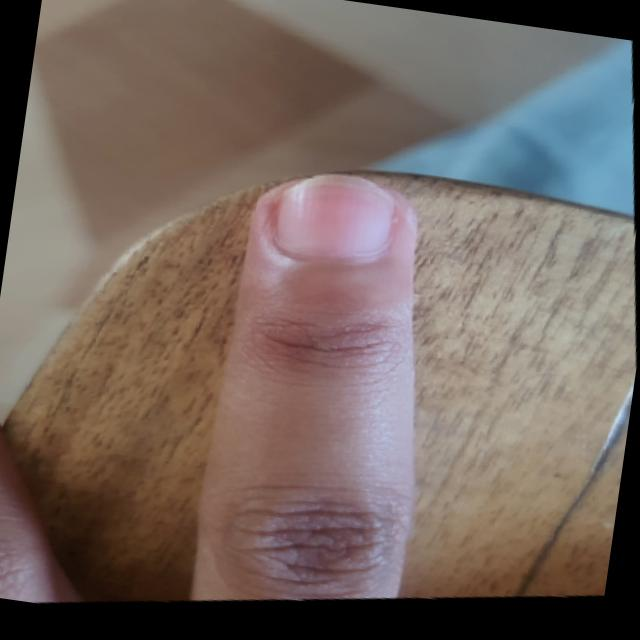Nail: (279, 174, 393, 261)
